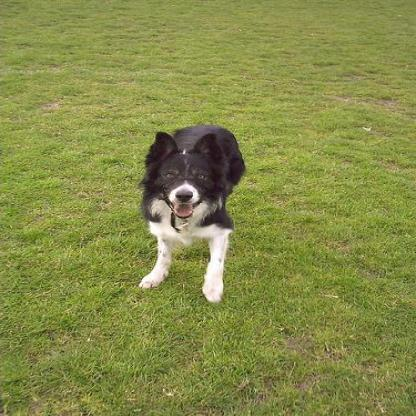Border_collie: (134, 118, 246, 305)
